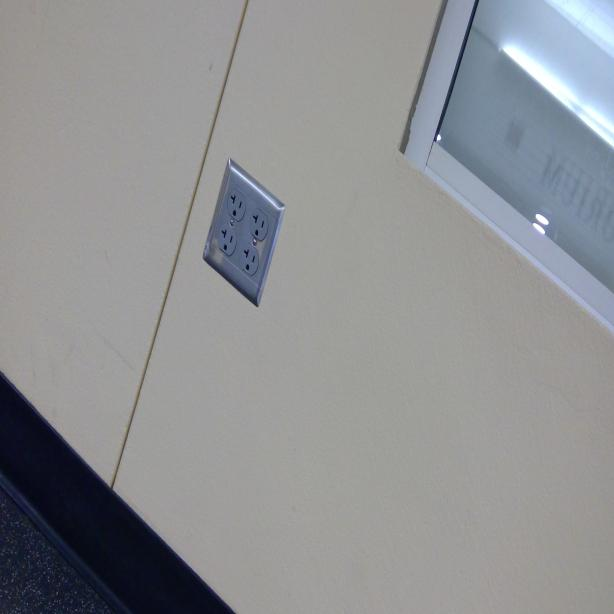typeb: (226, 184, 246, 221), (248, 205, 268, 239), (217, 224, 237, 258), (240, 245, 259, 274)
